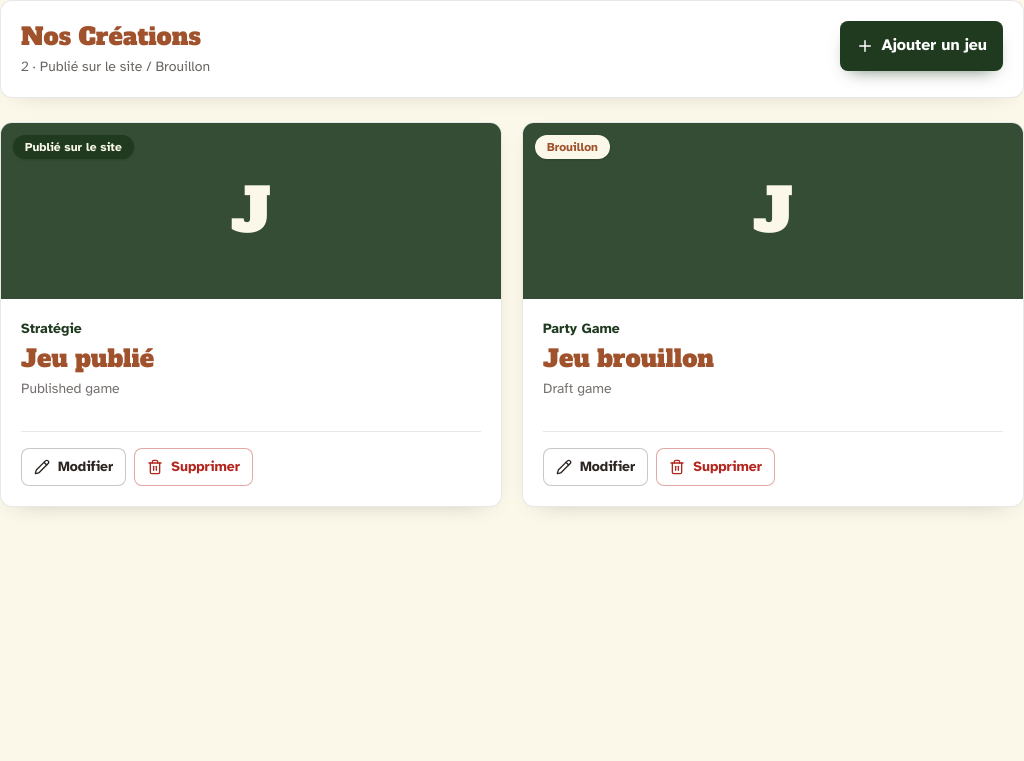
Test: GamesManager (liste admin) › liste les jeux (brouillons compris) et ouvre le formulaire de création
The image size is (1024, 761).
Expected: the heading "Jeu publié" is shown, [21,342,154,375]
Expected: the heading "Jeu brouillon" is shown, [543,342,714,375]
What coordinates should you click on to do the following:
click the button "Ajouter un jeu"
I would click on:
 (921, 46)
Its box is [840,21,1003,71].
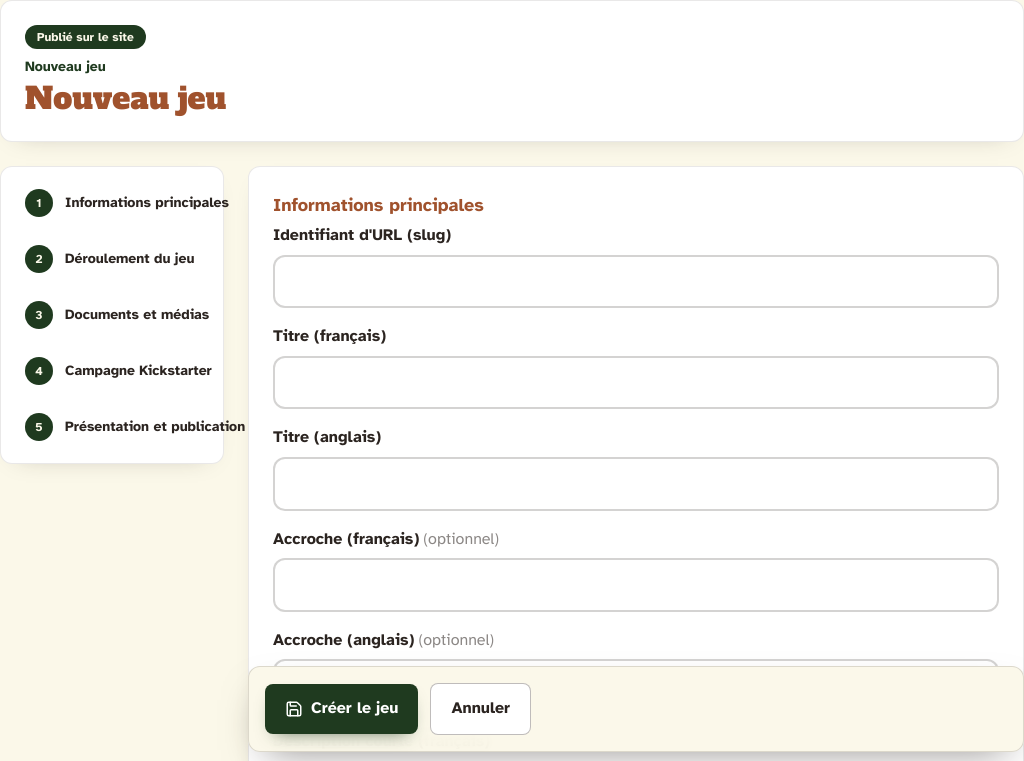
Expected: the field labelled "Titre (français)" is shown, [273,356,999,409]
